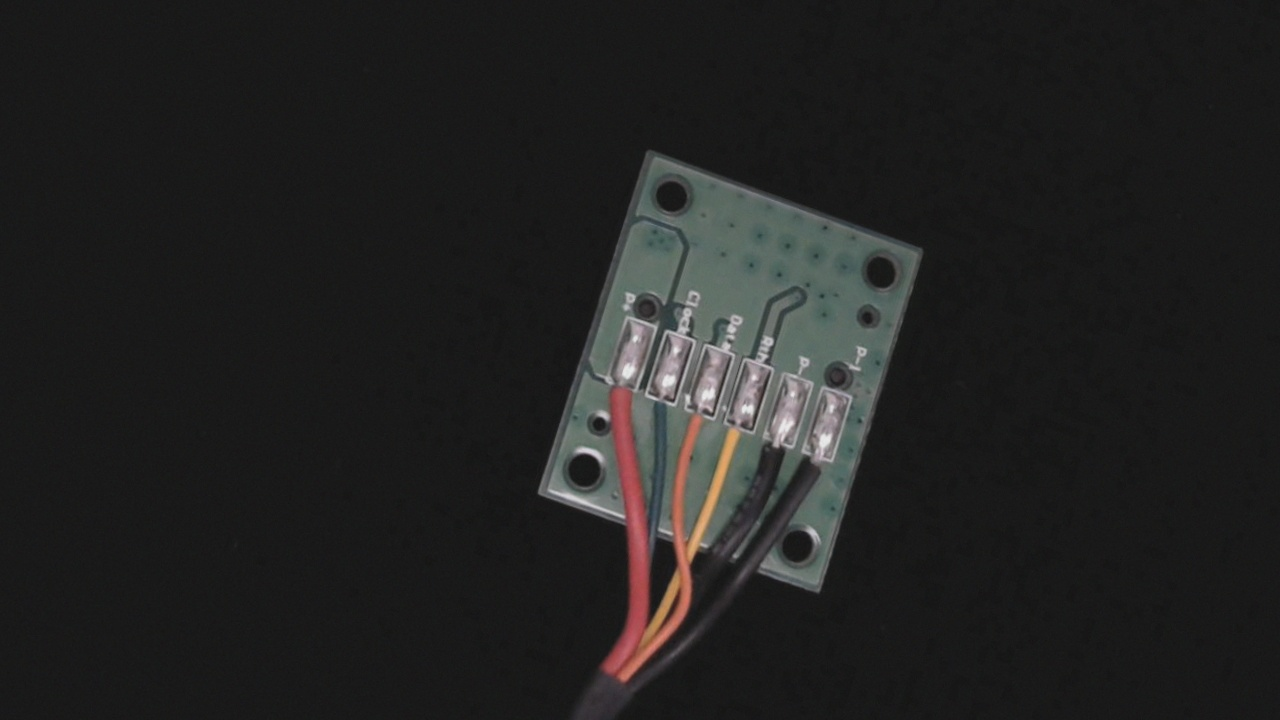Black: (741, 417, 802, 506)
Black1: (789, 435, 844, 518)
Green: (632, 377, 683, 452)
Orange: (666, 391, 725, 478)
Red: (590, 363, 646, 445)
Yellow: (700, 404, 761, 494)
